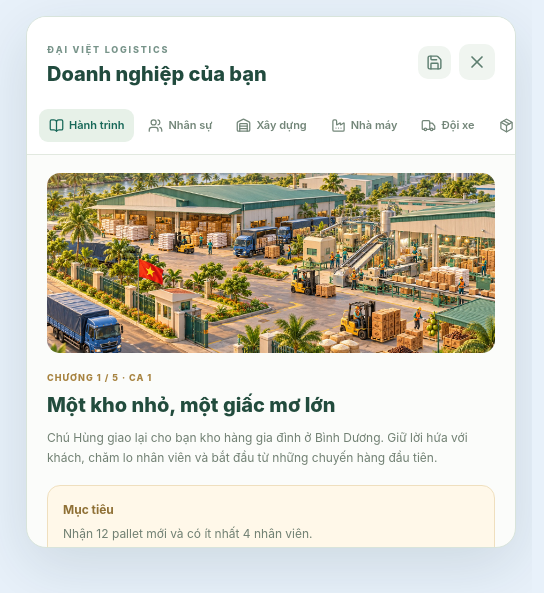
Test: Vietnamese empire management UI › shows the illustrated first chapter and hires through the personnel tab
Click the button "Nhân sự" at (180, 125), box [138,109,222,142]
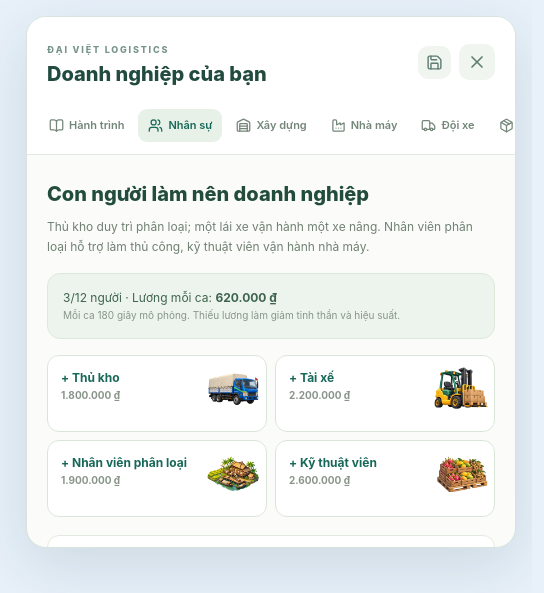
Click the button "+ Kỹ thuật viên 2.600.000 ₫" at (385, 479), box [275,440,495,517]
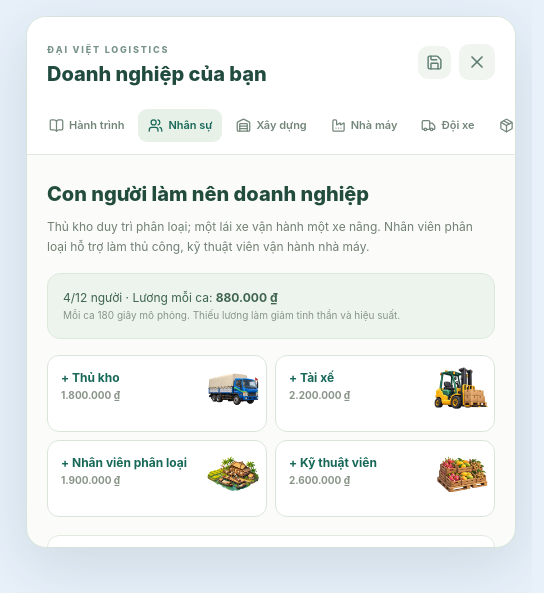
Expected: the text "4/12 người" is shown, [47,273,495,339]
